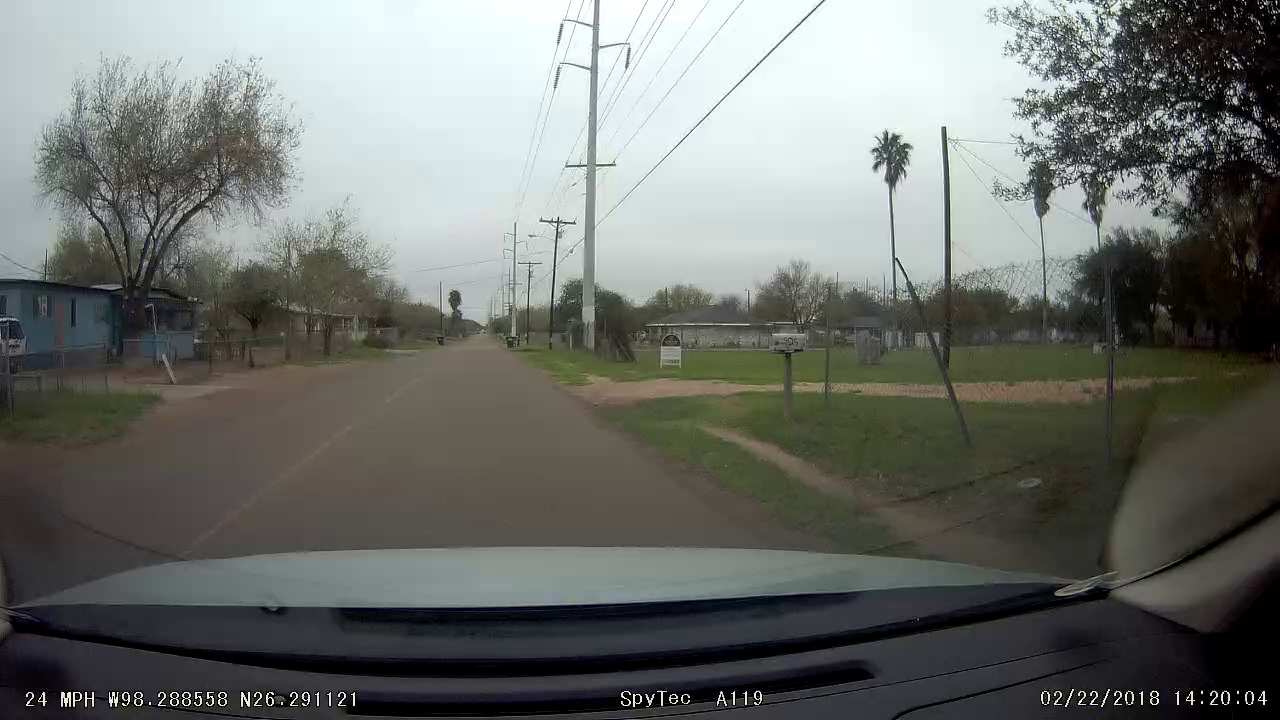blurredLine: (305, 401, 387, 466)
